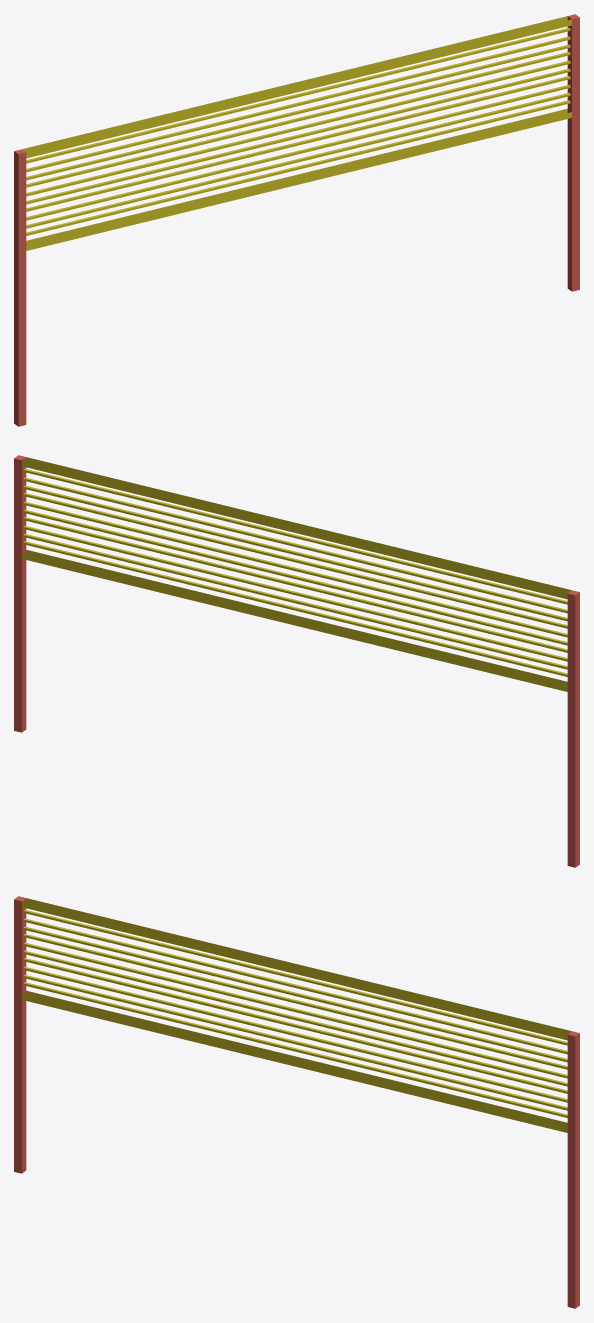
File: VolleyballNet.fbx
The picture shows the model from 3 angles, top to bottom: view 1: azimuth 30°, elevation 25°; view 2: azimuth 150°, elevation 25°; view 3: azimuth 330°, elevation 25°; orthographic projection.
Visible parts, largest first — view 1: VOLLEYBALL2; view 2: VOLLEYBALL2; view 3: VOLLEYBALL2.
Part boxes in pixels (x1=…): VOLLEYBALL2: x1=14, y1=14, x2=579, y2=426; VOLLEYBALL2: x1=14, y1=455, x2=579, y2=867; VOLLEYBALL2: x1=14, y1=896, x2=579, y2=1308.
Size of the model in its own units: 3072 by 1424 by 43.22.
